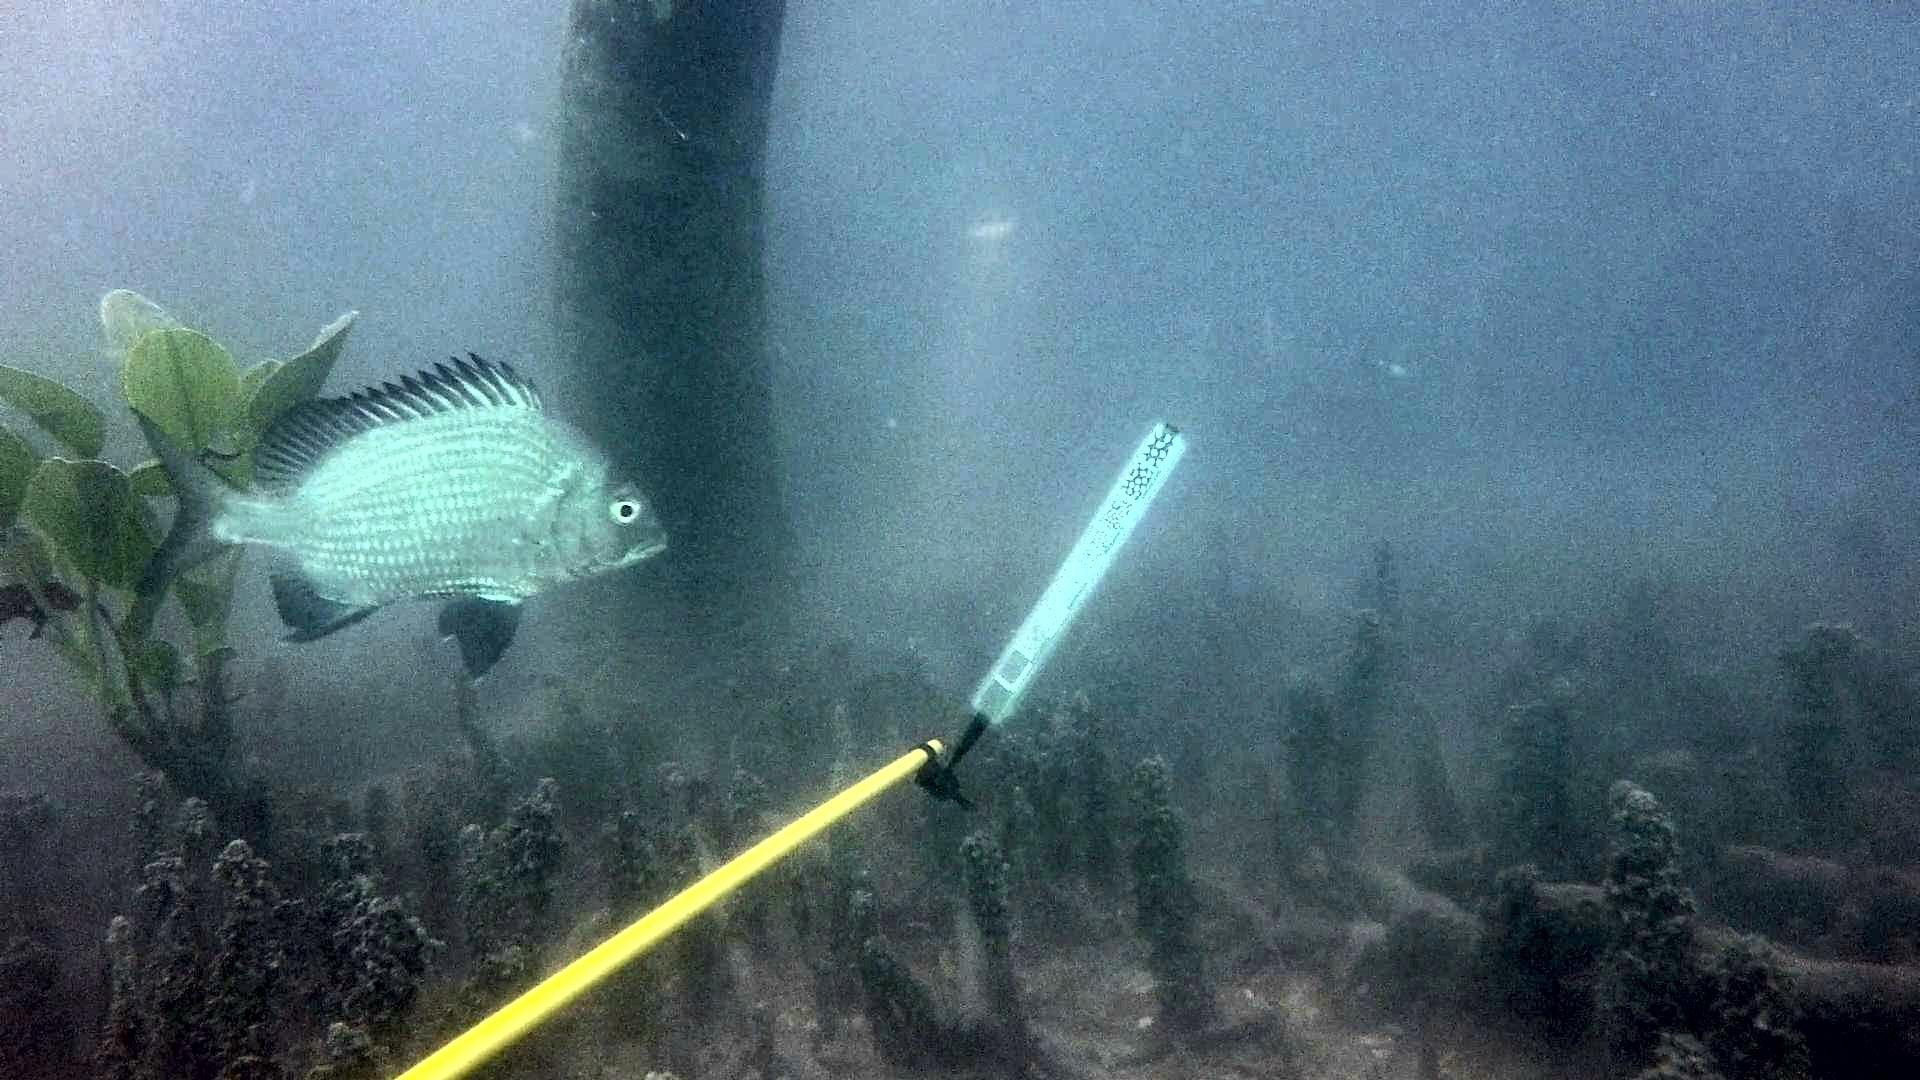acanthopagrus palmaris: (124, 346, 676, 691)
